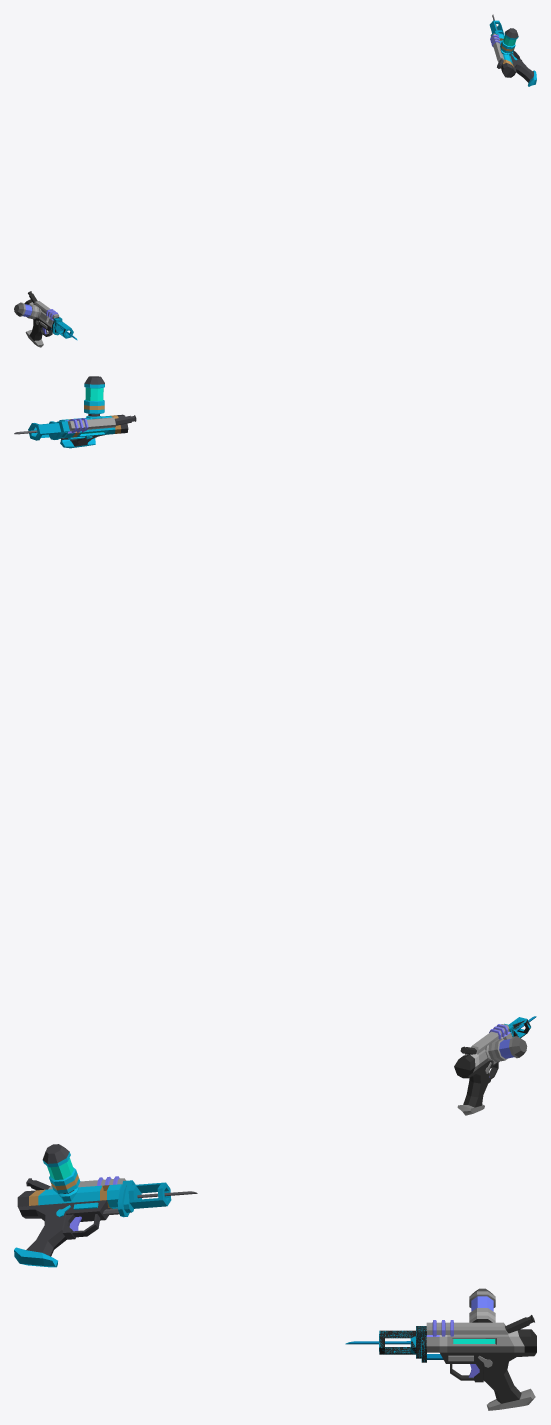
Rendered from item_6.glb.
The picture shows the model from 3 angles, top to bottom: view 1: azimuth 30°, elevation 25°; view 2: azimuth 150°, elevation 25°; view 3: azimuth 270°, elevation 25°; orthographic projection. The views are drawn at different scales.
Parts seen in each view (by area): view 1: UV1_4, UV1, UV2; view 2: UV1, UV2_4; view 3: UV1_4, UV1, UV2, UV2_4, UV3_4, UV8, UV3, UV3_1, UV5, UV5_4, UV7, UV6_4.
Boxes of the visible parts, x1,y1,x2,y2 form: UV1_4: [497, 28, 533, 82]; UV1: [14, 291, 52, 340]; UV2: [19, 302, 53, 347]; UV1: [454, 1036, 527, 1107]; UV2_4: [59, 383, 115, 448]; UV1_4: [17, 1144, 112, 1256]; UV1: [440, 1288, 536, 1403]; UV2: [426, 1291, 535, 1410]; UV2_4: [14, 1152, 122, 1267]; UV3_4: [117, 1180, 171, 1217]; UV8: [426, 1322, 508, 1343]; UV3: [379, 1326, 426, 1362]; UV3_1: [379, 1326, 426, 1362]; UV5: [439, 1312, 524, 1352]; UV5_4: [29, 1174, 111, 1208]; UV7: [426, 1320, 479, 1377]; UV6_4: [47, 1158, 73, 1179].
Size of the model in its own units: 2.89 by 2.08 by 1.61.
46 materials, 46 textured.
